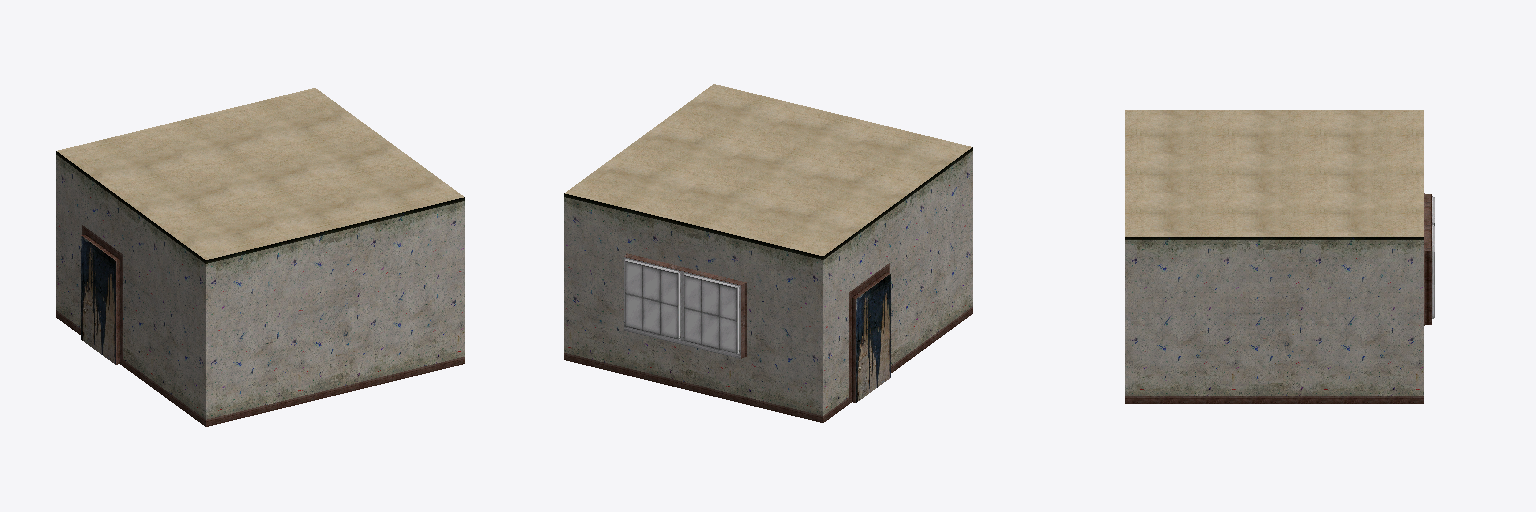
3 renders of one model, left to right at view 1: azimuth 30°, elevation 25°; view 2: azimuth 150°, elevation 25°; view 3: azimuth 270°, elevation 25°, orthographic.
Bounding box in the file's own units: 6.6 × 4 × 6.73.
7 materials, 7 textured.